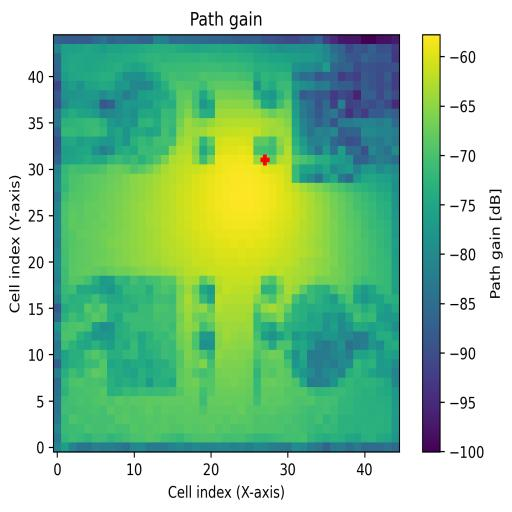Concrete: (291, 63, 361, 182)
Glass: (115, 72, 185, 166)
Metal: (284, 283, 368, 388)
Wood: (106, 276, 184, 397)
